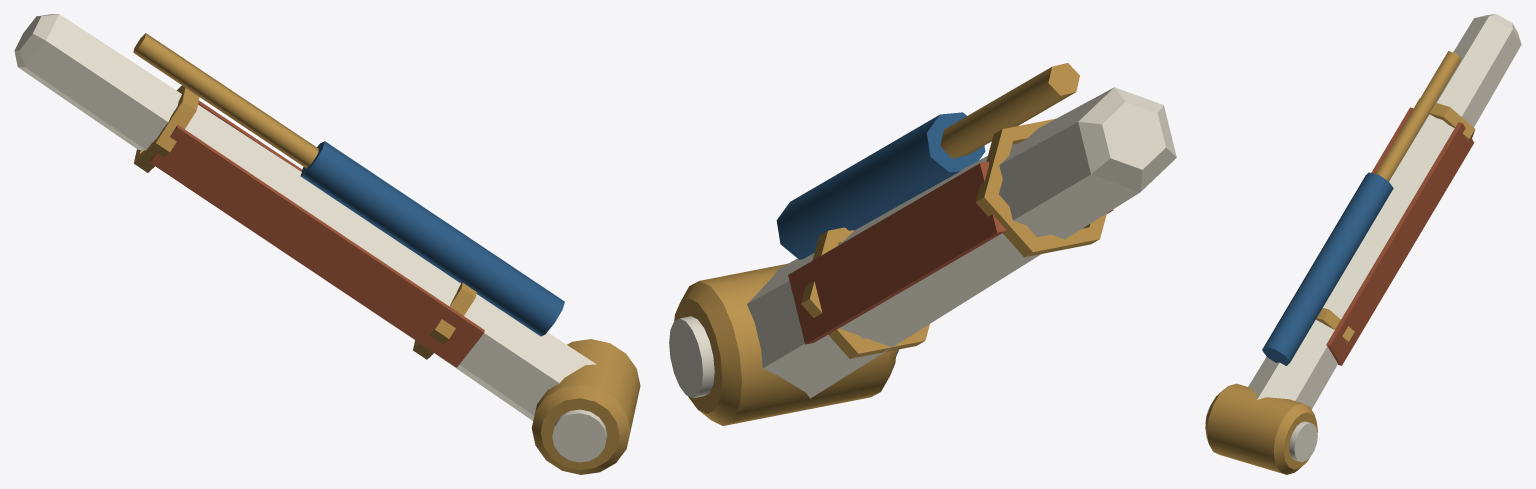
Rendered from rm2_leg_rr_femur.obj.
3 views of the same model, side by side, from view 1: azimuth 30°, elevation 25°; view 2: azimuth 150°, elevation 25°; view 3: azimuth 270°, elevation 25° (orthographic). The views are drawn at different scales.
Parts seen in each view (by area): view 1: rm2_leg_rr_femur; view 2: rm2_leg_rr_femur; view 3: rm2_leg_rr_femur.
Boxes of the visible parts, x1=… form: rm2_leg_rr_femur: x1=14, y1=14, x2=640, y2=474; rm2_leg_rr_femur: x1=669, y1=63, x2=1176, y2=425; rm2_leg_rr_femur: x1=1205, y1=14, x2=1521, y2=474.
Bounding box in the file's own units: 0.5083 × 0.4271 × 0.3944.
